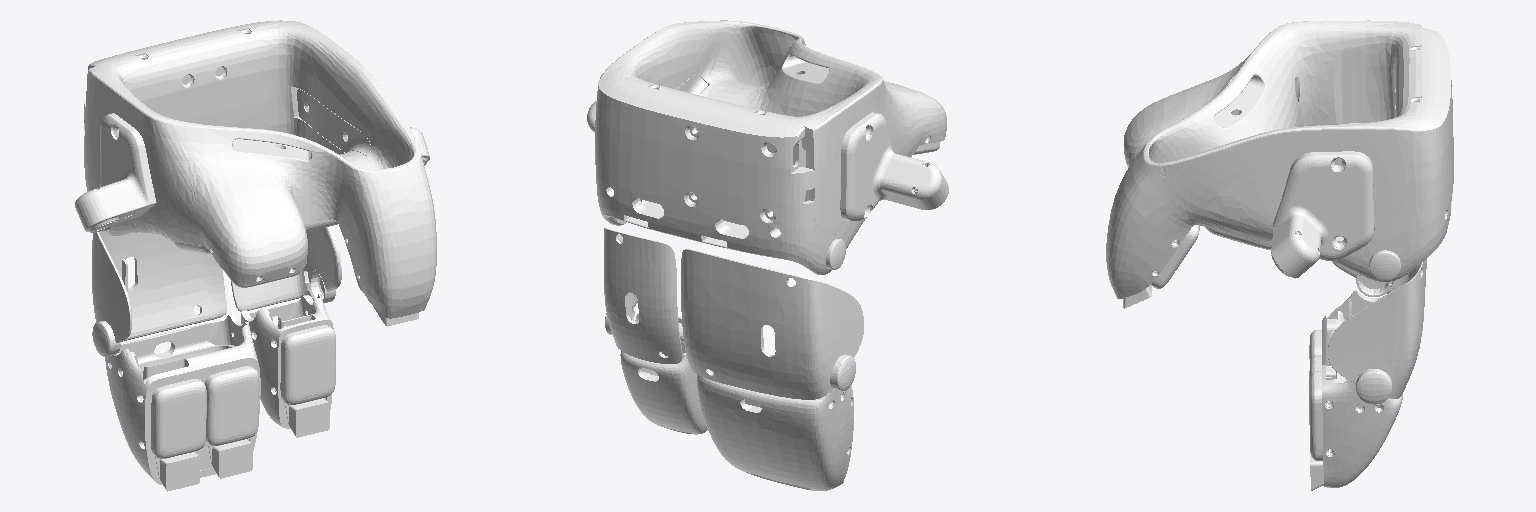
The robot description file, URDF, robot "pxcap_iii_golve_urdf_description_left":
<?xml version="1.0" encoding="utf-8"?>
<!-- This URDF was automatically created by SolidWorks to URDF Exporter! Originally created by Stephen Brawner (brawner@gmail.com) 
     Commit Version: 1.6.0-4-g7f85cfe  Build Version: 1.6.7995.38578
     For more information, please see http://wiki.ros.org/sw_urdf_exporter -->
<robot
  name="pxcap_iii_golve_urdf_description_left">
  <link
    name="left_palm_link">
    <inertial>
      <origin
        xyz="-0.0017565 -0.012312 -0.035773"
        rpy="0 0 0" />
      <mass
        value="0.21118" />
      <inertia
        ixx="0.0002892"
        ixy="2.1877E-05"
        ixz="8.8442E-06"
        iyy="0.0002735"
        iyz="-3.5061E-05"
        izz="0.00045283" />
    </inertial>
    <visual>
      <origin
        xyz="0 0 0"
        rpy="0 0 0" />
      <geometry>
        <mesh
          filename="package://pxcap_iii_golve_urdf_description_left/meshes/left_palm_link.STL" />
      </geometry>
      <material
        name="">
        <color
          rgba="1 1 1 1" />
      </material>
    </visual>
    <collision>
      <origin
        xyz="0 0 0"
        rpy="0 0 0" />
      <geometry>
        <mesh
          filename="package://pxcap_iii_golve_urdf_description_left/meshes/left_palm_link.STL" />
      </geometry>
    </collision>
  </link>
  <link
    name="left_index_link_0">
    <inertial>
      <origin
        xyz="0.00019442 0.005408 -0.036943"
        rpy="0 0 0" />
      <mass
        value="0.0060722" />
      <inertia
        ixx="1.8939E-06"
        ixy="4.3514E-07"
        ixz="7.4863E-08"
        iyy="2.068E-06"
        iyz="-2.3597E-07"
        izz="1.3861E-06" />
    </inertial>
    <visual>
      <origin
        xyz="0 0 0"
        rpy="0 0 0" />
      <geometry>
        <mesh
          filename="package://pxcap_iii_golve_urdf_description_left/meshes/left_index_link_0.STL" />
      </geometry>
      <material
        name="">
        <color
          rgba="1 1 1 1" />
      </material>
    </visual>
    <collision>
      <origin
        xyz="0 0 0"
        rpy="0 0 0" />
      <geometry>
        <mesh
          filename="package://pxcap_iii_golve_urdf_description_left/meshes/left_index_link_0.STL" />
      </geometry>
    </collision>
  </link>
  <joint
    name="left_index_joint_0"
    type="revolute">
    <origin
      xyz="0.038658 0.022679 -0.063811"
      rpy="0 0 0" />
    <parent
      link="left_palm_link" />
    <child
      link="left_index_link_0" />
    <axis
      xyz="-1 0 0" />
    <limit
      lower="-0.1744"
      upper="0.9769"
      effort="0"
      velocity="0" />
  </joint>
  <link
    name="left_index_link_1">
    <inertial>
      <origin
        xyz="-0.0085075 -0.0076649 -0.025782"
        rpy="0 0 0" />
      <mass
        value="0.013737" />
      <inertia
        ixx="3.0703E-06"
        ixy="1.3577E-09"
        ixz="-4.9072E-08"
        iyy="3.6868E-06"
        iyz="-1.9027E-07"
        izz="2.5421E-06" />
    </inertial>
    <visual>
      <origin
        xyz="0 0 0"
        rpy="0 0 0" />
      <geometry>
        <mesh
          filename="package://pxcap_iii_golve_urdf_description_left/meshes/left_index_link_1.STL" />
      </geometry>
      <material
        name="">
        <color
          rgba="1 1 1 1" />
      </material>
    </visual>
    <collision>
      <origin
        xyz="0 0 0"
        rpy="0 0 0" />
      <geometry>
        <mesh
          filename="package://pxcap_iii_golve_urdf_description_left/meshes/left_index_link_1.STL" />
      </geometry>
    </collision>
  </link>
  <joint
    name="left_index_joint_1"
    type="revolute">
    <origin
      xyz="0 -0.0044875 -0.054816"
      rpy="0 0 0" />
    <parent
      link="left_index_link_0" />
    <child
      link="left_index_link_1" />
    <axis
      xyz="-1 0 0" />
    <limit
      lower="-0.1744"
      upper="0.6978"
      effort="0"
      velocity="0" />
  </joint>
  <link
    name="left_index_tactile_link_0">
    <inertial>
      <origin
        xyz="-3.8644E-05 0.019979 0.0032357"
        rpy="0 0 0" />
      <mass
        value="0.0070418" />
      <inertia
        ixx="1.1259E-06"
        ixy="5.1666E-09"
        ixz="1.4063E-10"
        iyy="3.3615E-07"
        iyz="-1.2721E-09"
        izz="1.389E-06" />
    </inertial>
    <visual>
      <origin
        xyz="0 0 0"
        rpy="0 0 0" />
      <geometry>
        <mesh
          filename="package://pxcap_iii_golve_urdf_description_left/meshes/left_index_tactile_link_0.STL" />
      </geometry>
      <material
        name="">
        <color
          rgba="1 1 1 1" />
      </material>
    </visual>
    <collision>
      <origin
        xyz="0 0 0"
        rpy="0 0 0" />
      <geometry>
        <mesh
          filename="package://pxcap_iii_golve_urdf_description_left/meshes/left_index_tactile_link_0.STL" />
      </geometry>
    </collision>
  </link>
  <joint
    name="left_index_tactile_joint_0"
    type="fixed">
    <origin
      xyz="-0.0084519 -0.019722 -0.008009"
      rpy="-1.5869 0 -3.1416" />
    <parent
      link="left_index_link_1" />
    <child
      link="left_index_tactile_link_0" />
    <axis
      xyz="0 0 0" />
  </joint>
  <link
    name="left_middle_link_0">
    <inertial>
      <origin
        xyz="0.012936 0.0093282 -0.035578"
        rpy="0 0 0" />
      <mass
        value="0.0096299" />
      <inertia
        ixx="3.244E-06"
        ixy="-1.1604E-06"
        ixz="-3.0843E-07"
        iyy="6.6059E-06"
        iyz="-3.7911E-07"
        izz="5.0096E-06" />
    </inertial>
    <visual>
      <origin
        xyz="0 0 0"
        rpy="0 0 0" />
      <geometry>
        <mesh
          filename="package://pxcap_iii_golve_urdf_description_left/meshes/left_middle_link_0.STL" />
      </geometry>
      <material
        name="">
        <color
          rgba="1 1 1 1" />
      </material>
    </visual>
    <collision>
      <origin
        xyz="0 0 0"
        rpy="0 0 0" />
      <geometry>
        <mesh
          filename="package://pxcap_iii_golve_urdf_description_left/meshes/left_middle_link_0.STL" />
      </geometry>
    </collision>
  </link>
  <joint
    name="left_middle_joint_0"
    type="revolute">
    <origin
      xyz="-0.042342 0.022678 -0.063811"
      rpy="0 0 0" />
    <parent
      link="left_palm_link" />
    <child
      link="left_middle_link_0" />
    <axis
      xyz="-1 0 0" />
    <limit
      lower="-0.1744"
      upper="0.9769"
      effort="0"
      velocity="0" />
  </joint>
  <link
    name="left_middle_link_1">
    <inertial>
      <origin
        xyz="0.021754 -0.0071118 -0.033825"
        rpy="0 0 0" />
      <mass
        value="0.028187" />
      <inertia
        ixx="8.9089E-06"
        ixy="2.4169E-07"
        ixz="-4.4868E-08"
        iyy="1.6867E-05"
        iyz="-8.8459E-07"
        izz="1.3188E-05" />
    </inertial>
    <visual>
      <origin
        xyz="0 0 0"
        rpy="0 0 0" />
      <geometry>
        <mesh
          filename="package://pxcap_iii_golve_urdf_description_left/meshes/left_middle_link_1.STL" />
      </geometry>
      <material
        name="">
        <color
          rgba="1 1 1 1" />
      </material>
    </visual>
    <collision>
      <origin
        xyz="0 0 0"
        rpy="0 0 0" />
      <geometry>
        <mesh
          filename="package://pxcap_iii_golve_urdf_description_left/meshes/left_middle_link_1.STL" />
      </geometry>
    </collision>
  </link>
  <joint
    name="left_middle_joint_1"
    type="revolute">
    <origin
      xyz="0 -0.0044873 -0.054816"
      rpy="0 0 0" />
    <parent
      link="left_middle_link_0" />
    <child
      link="left_middle_link_1" />
    <axis
      xyz="-1 0 0" />
    <limit
      lower="-0.1744"
      upper="0.6978"
      effort="0"
      velocity="0" />
  </joint>
  <link
    name="left_middle_tactile_link_0">
    <inertial>
      <origin
        xyz="-3.8644E-05 0.019979 0.0032357"
        rpy="0 0 0" />
      <mass
        value="0.0070418" />
      <inertia
        ixx="1.1259E-06"
        ixy="5.1666E-09"
        ixz="1.4063E-10"
        iyy="3.3615E-07"
        iyz="-1.2721E-09"
        izz="1.389E-06" />
    </inertial>
    <visual>
      <origin
        xyz="0 0 0"
        rpy="0 0 0" />
      <geometry>
        <mesh
          filename="package://pxcap_iii_golve_urdf_description_left/meshes/left_middle_tactile_link_0.STL" />
      </geometry>
      <material
        name="">
        <color
          rgba="1 1 1 1" />
      </material>
    </visual>
    <collision>
      <origin
        xyz="0 0 0"
        rpy="0 0 0" />
      <geometry>
        <mesh
          filename="package://pxcap_iii_golve_urdf_description_left/meshes/left_middle_tactile_link_0.STL" />
      </geometry>
    </collision>
  </link>
  <joint
    name="left_middle_tactile_link_0"
    type="fixed">
    <origin
      xyz="0.00987489089680277 -0.0195559730409458 -0.0183554692384664"
      rpy="-1.58685335591322 0 -3.14159265358965" />
    <parent
      link="left_middle_link_1" />
    <child
      link="left_middle_tactile_link_0" />
    <axis
      xyz="0 0 0" />
  </joint>
  <link
    name="left_middle_tactile_link_1">
    <inertial>
      <origin
        xyz="-3.8644E-05 0.019979 0.0032357"
        rpy="0 0 0" />
      <mass
        value="0.0070418" />
      <inertia
        ixx="1.1259E-06"
        ixy="5.1666E-09"
        ixz="1.4063E-10"
        iyy="3.3615E-07"
        iyz="-1.2721E-09"
        izz="1.389E-06" />
    </inertial>
    <visual>
      <origin
        xyz="0 0 0"
        rpy="0 0 0" />
      <geometry>
        <mesh
          filename="package://pxcap_iii_golve_urdf_description_left/meshes/left_middle_tactile_link_1.STL" />
      </geometry>
      <material
        name="">
        <color
          rgba="1 1 1 1" />
      </material>
    </visual>
    <collision>
      <origin
        xyz="0 0 0"
        rpy="0 0 0" />
      <geometry>
        <mesh
          filename="package://pxcap_iii_golve_urdf_description_left/meshes/left_middle_tactile_link_1.STL" />
      </geometry>
    </collision>
  </link>
  <joint
    name="left_middle_tactile_joint_1"
    type="fixed">
    <origin
      xyz="0.0353948908968028 -0.0195559730409423 -0.0183554692384665"
      rpy="-1.58685335591322 0 -3.14159265358965" />
    <parent
      link="left_middle_link_1" />
    <child
      link="left_middle_tactile_link_1" />
    <axis
      xyz="0 0 0" />
  </joint>
  <link
    name="left_palm_tactile_link_0">
    <inertial>
      <origin
        xyz="-0.00032382 0.040726 0.00062225"
        rpy="0 0 0" />
      <mass
        value="0.022508" />
      <inertia
        ixx="1.256E-05"
        ixy="6.6216E-09"
        ixz="1.6111E-08"
        iyy="2.039E-06"
        iyz="-7.9543E-08"
        izz="1.4301E-05" />
    </inertial>
    <visual>
      <origin
        xyz="0 0 0"
        rpy="0 0 0" />
      <geometry>
        <mesh
          filename="package://pxcap_iii_golve_urdf_description_left/meshes/left_palm_tactile_link_0.STL" />
      </geometry>
      <material
        name="">
        <color
          rgba="1 1 1 1" />
      </material>
    </visual>
    <collision>
      <origin
        xyz="0 0 0"
        rpy="0 0 0" />
      <geometry>
        <mesh
          filename="package://pxcap_iii_golve_urdf_description_left/meshes/left_palm_tactile_link_0.STL" />
      </geometry>
    </collision>
  </link>
  <joint
    name="left_palm_tactile_joint_0"
    type="fixed">
    <origin
      xyz="0.039151 -0.036391 -0.054674"
      rpy="3.1416 -0.30906 -1.5707" />
    <parent
      link="left_palm_link" />
    <child
      link="left_palm_tactile_link_0" />
    <axis
      xyz="0 0 0" />
  </joint>
  <link
    name="left_palm_tactile_link_1">
    <inertial>
      <origin
        xyz="-1.0791E-05 0.014414 0.0032632"
        rpy="0 0 0" />
      <mass
        value="0.0053755" />
      <inertia
        ixx="4.421E-07"
        ixy="8.958E-10"
        ixz="-2.4093E-10"
        iyy="2.7965E-07"
        iyz="-1.9346E-09"
        izz="6.6911E-07" />
    </inertial>
    <visual>
      <origin
        xyz="0 0 0"
        rpy="0 0 0" />
      <geometry>
        <mesh
          filename="package://pxcap_iii_golve_urdf_description_left/meshes/left_palm_tactile_link_1.STL" />
      </geometry>
      <material
        name="">
        <color
          rgba="1 1 1 1" />
      </material>
    </visual>
    <collision>
      <origin
        xyz="0 0 0"
        rpy="0 0 0" />
      <geometry>
        <mesh
          filename="package://pxcap_iii_golve_urdf_description_left/meshes/left_palm_tactile_link_1.STL" />
      </geometry>
    </collision>
  </link>
  <joint
    name="left_palm_tactile_joint_1"
    type="fixed">
    <origin
      xyz="-0.044836 -0.068242 -0.050265"
      rpy="-3.1416 -0.30516 1.5708" />
    <parent
      link="left_palm_link" />
    <child
      link="left_palm_tactile_link_1" />
    <axis
      xyz="0 0 0" />
  </joint>
  <link
    name="left_palm_tactile_link_2">
    <inertial>
      <origin
        xyz="-1.08E-05 0.014414 0.0032632"
        rpy="0 0 0" />
      <mass
        value="0.0053755" />
      <inertia
        ixx="4.421E-07"
        ixy="8.9583E-10"
        ixz="-2.4084E-10"
        iyy="2.7965E-07"
        iyz="-1.9346E-09"
        izz="6.6911E-07" />
    </inertial>
    <visual>
      <origin
        xyz="0 0 0"
        rpy="0 0 0" />
      <geometry>
        <mesh
          filename="package://pxcap_iii_golve_urdf_description_left/meshes/left_palm_tactile_link_2.STL" />
      </geometry>
      <material
        name="">
        <color
          rgba="1 1 1 1" />
      </material>
    </visual>
    <collision>
      <origin
        xyz="0 0 0"
        rpy="0 0 0" />
      <geometry>
        <mesh
          filename="package://pxcap_iii_golve_urdf_description_left/meshes/left_palm_tactile_link_2.STL" />
      </geometry>
    </collision>
  </link>
  <joint
    name="left_palm_tactile_joint_2"
    type="fixed">
    <origin
      xyz="0.029812 -0.059271 -0.051345"
      rpy="-2.1214 -0.00025767 2.1259E-05" />
    <parent
      link="left_palm_link" />
    <child
      link="left_palm_tactile_link_2" />
    <axis
      xyz="0 0 0" />
  </joint>
  <link
    name="left_palm_tactile_link_3">
    <inertial>
      <origin
        xyz="0 0 0"
        rpy="0 0 0" />
      <mass
        value="0" />
      <inertia
        ixx="0"
        ixy="0"
        ixz="0"
        iyy="0"
        iyz="0"
        izz="0" />
    </inertial>
    <visual>
      <origin
        xyz="0 0 0"
        rpy="0 0 0" />
      <geometry>
        <mesh
          filename="package://pxcap_iii_golve_urdf_description_left/meshes/left_palm_tactile_link_3.STL" />
      </geometry>
      <material
        name="">
        <color
          rgba="1 1 1 1" />
      </material>
    </visual>
    <collision>
      <origin
        xyz="0 0 0"
        rpy="0 0 0" />
      <geometry>
        <mesh
          filename="package://pxcap_iii_golve_urdf_description_left/meshes/left_palm_tactile_link_3.STL" />
      </geometry>
    </collision>
  </link>
  <joint
    name="left_palm_tactile_joint_3"
    type="fixed">
    <origin
      xyz="0.0376301970471754 -0.0808311557011837 -0.0797026272466337"
      rpy="-3.1415834474626 0.44675259506735 -1.57027531726829" />
    <parent
      link="left_palm_link" />
    <child
      link="left_palm_tactile_link_3" />
    <axis
      xyz="0 0 0" />
  </joint>
</robot>

--- Render facts (derived) ---
3 views of the same robot in one strip: view 1: azimuth 30°, elevation 25°; view 2: azimuth 150°, elevation 25°; view 3: azimuth 270°, elevation 25° (orthographic).
Model pxcap_iii_golve_urdf_description_left with 12 links and 11 joints (4 revolute, 7 fixed), rooted at left_palm_link, posed all joints at 0.
Links seen in each view (by area): view 1: left_palm_link, left_middle_link_0, left_middle_link_1, left_middle_tactile_link_0, left_index_tactile_link_0, left_middle_tactile_link_1, left_index_link_1, left_index_link_0; view 2: left_palm_link, left_middle_link_0, left_middle_link_1, left_index_link_0, left_index_link_1; view 3: left_palm_link, left_index_link_0, left_index_link_1, left_index_tactile_link_0, left_middle_link_1, left_middle_link_0, left_palm_tactile_link_2.
Link boxes in pixels (bbox=[...]): left_palm_link: bbox=[75, 20, 436, 318]; left_middle_link_0: bbox=[92, 231, 226, 356]; left_middle_link_1: bbox=[105, 314, 260, 484]; left_middle_tactile_link_0: bbox=[151, 379, 206, 491]; left_index_tactile_link_0: bbox=[280, 325, 335, 437]; left_middle_tactile_link_1: bbox=[205, 366, 258, 478]; left_index_link_1: bbox=[241, 294, 333, 428]; left_index_link_0: bbox=[231, 227, 341, 311]; left_palm_link: bbox=[587, 20, 948, 274]; left_middle_link_0: bbox=[681, 249, 863, 399]; left_middle_link_1: bbox=[697, 369, 853, 490]; left_index_link_0: bbox=[604, 228, 682, 363]; left_index_link_1: bbox=[620, 313, 707, 434]; left_palm_link: bbox=[1106, 20, 1453, 298]; left_index_link_0: bbox=[1327, 261, 1424, 404]; left_index_link_1: bbox=[1322, 364, 1402, 487]; left_index_tactile_link_0: bbox=[1309, 371, 1331, 490]; left_middle_link_1: bbox=[1322, 289, 1381, 364]; left_middle_link_0: bbox=[1332, 259, 1426, 296]; left_palm_tactile_link_2: bbox=[1151, 225, 1199, 288].
Size in the robot's own frame: 0.1662 by 0.1431 by 0.1819 metres.
Meshes: 12 distinct files referenced, 12 mesh visuals loaded (12 binary STL).
